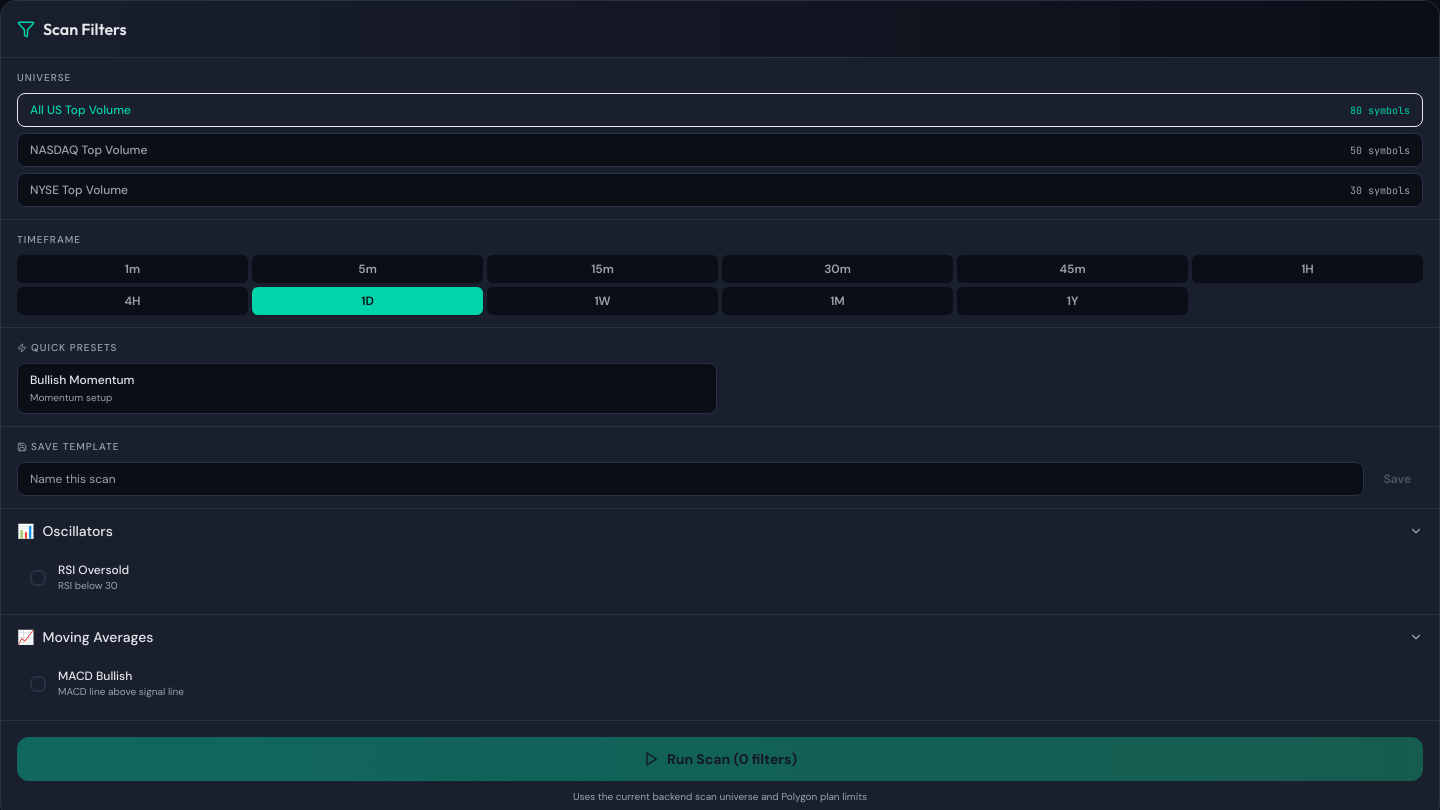
Test: Scanner filter panel › selects backend-advertised universes and visibly disables unsupported strategies
Click the radio button labelled "NASDAQ Top Volume 50 symbols" at (89, 150), box [17,133,1423,167]
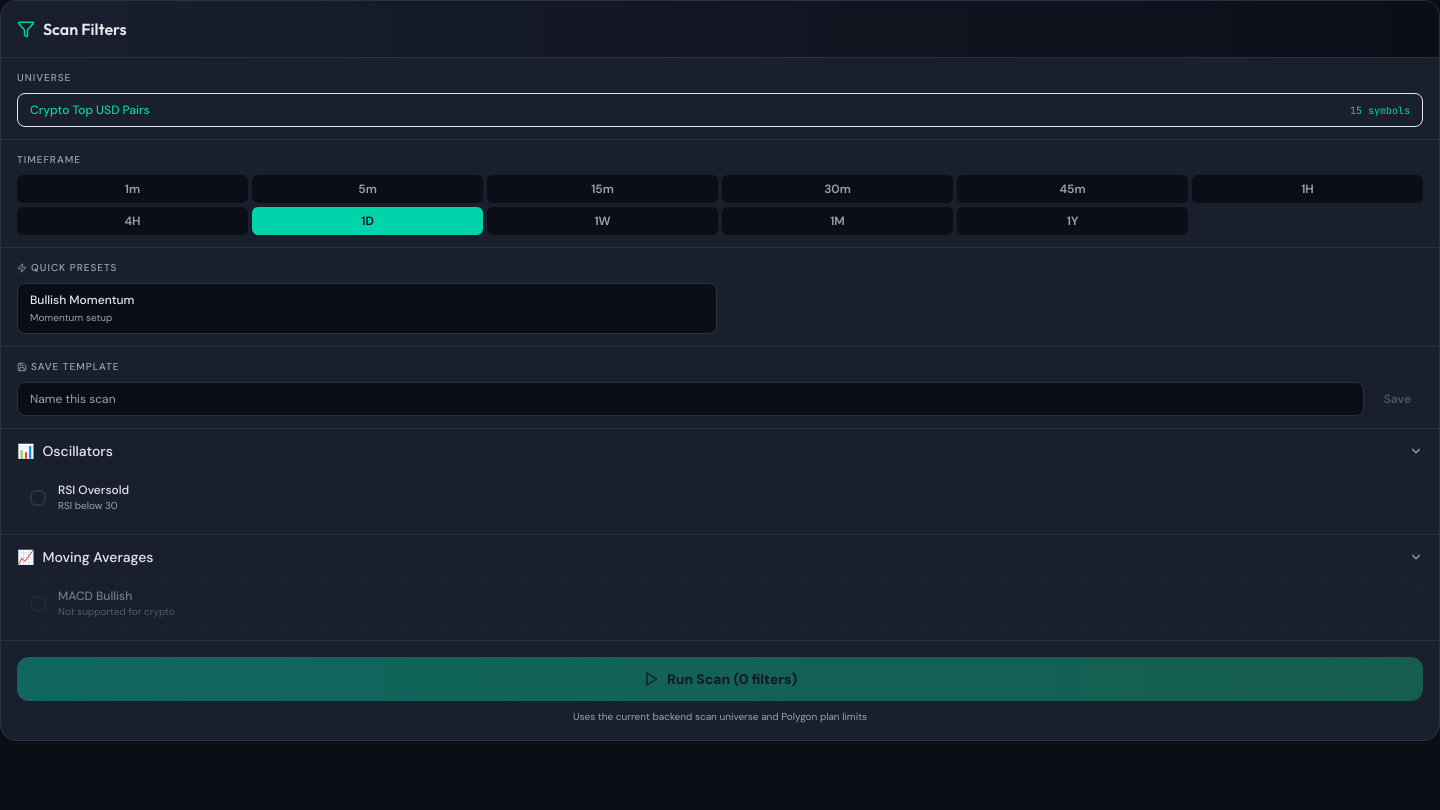
Now the radio button labelled "Crypto Top USD Pairs 15 symbols" is shown, box [17,93,1423,127]
Now the button with aria-label "MACD Bullish — Not supported for crypto" is disabled, box [17,579,1423,628]
